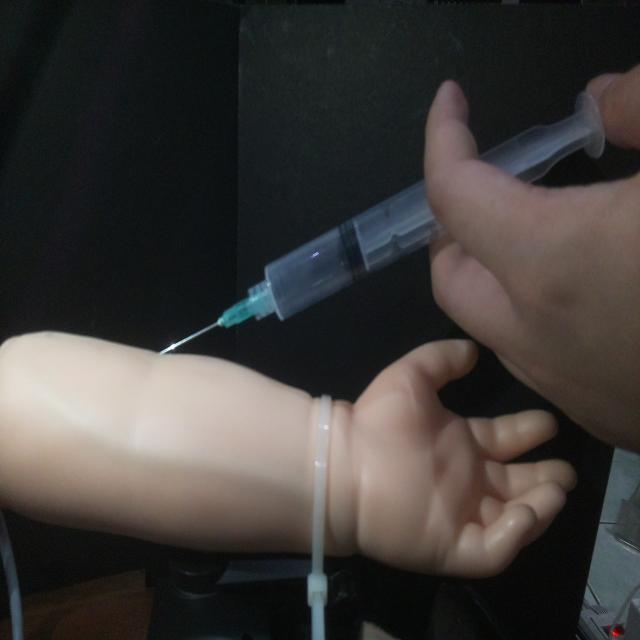25deg: (154, 86, 608, 358)
